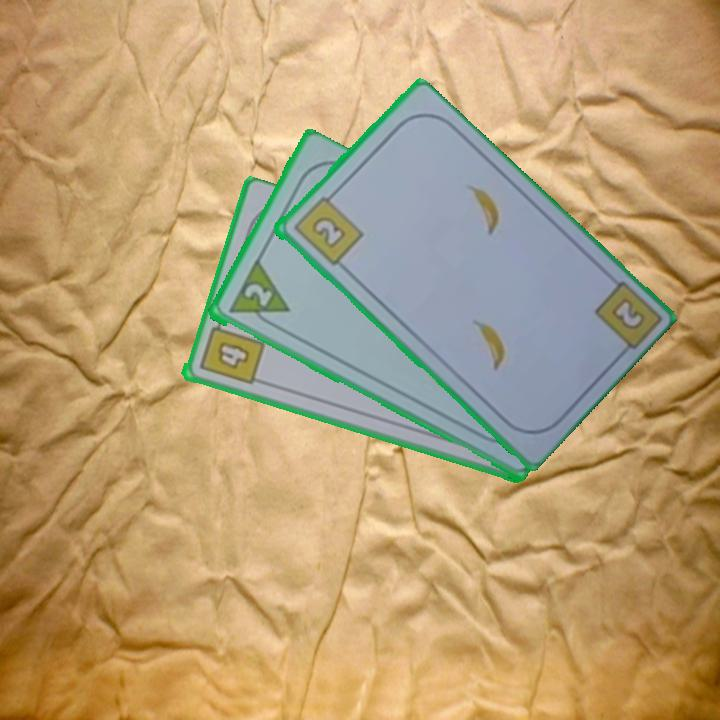2b: (289, 188, 365, 268), (610, 297, 645, 330)
2p: (224, 258, 292, 333)
4b: (195, 314, 267, 388)
